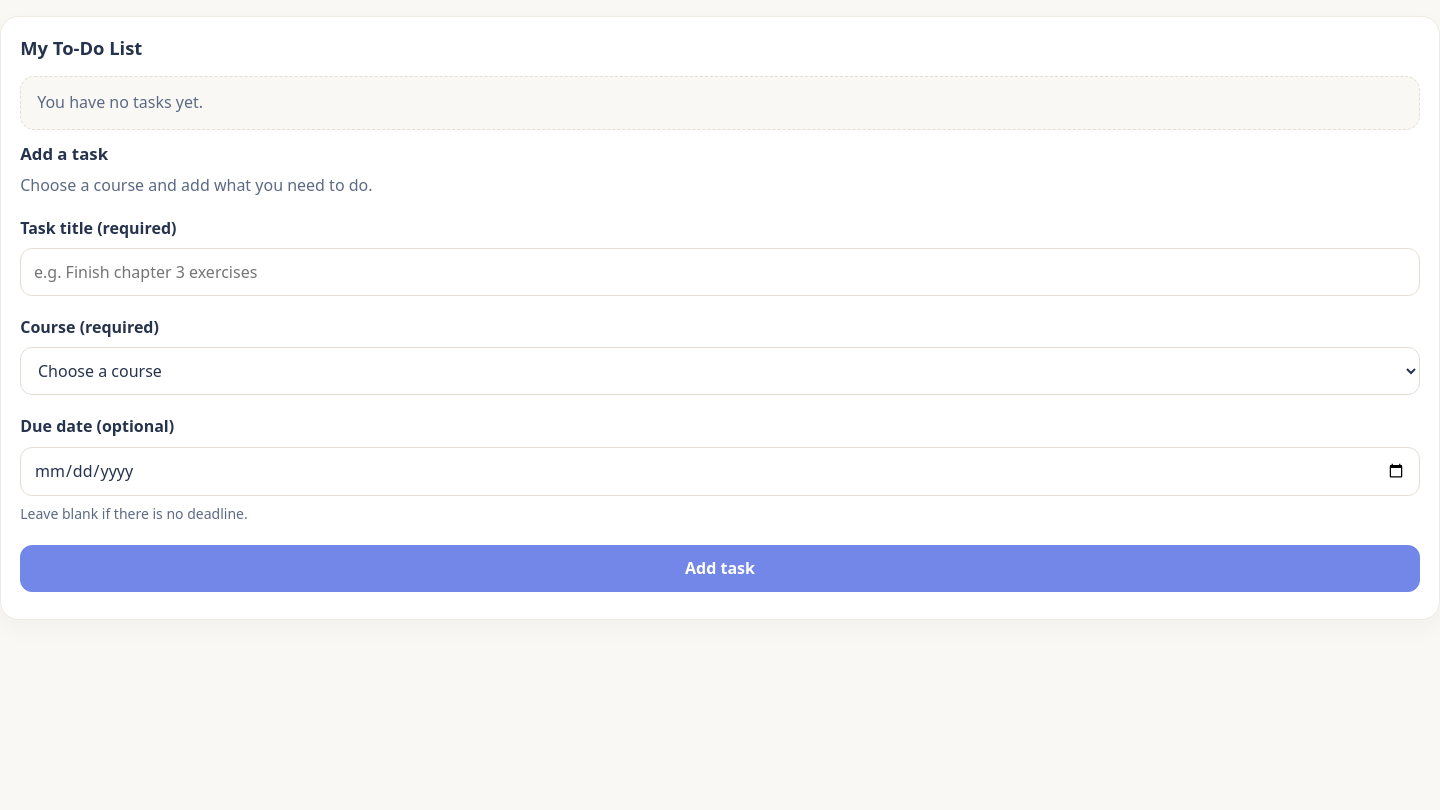
dashboard task list › places a newly created task using the same order
The width and height of the screenshot is (1440, 810).
Expected: the text "You have no tasks yet." is shown, [20,76,1420,130]
Type "Read chapter" into the field labelled "Task title (required)".
click(720, 272); type("Read chapter")  # box [20,248,1420,296]
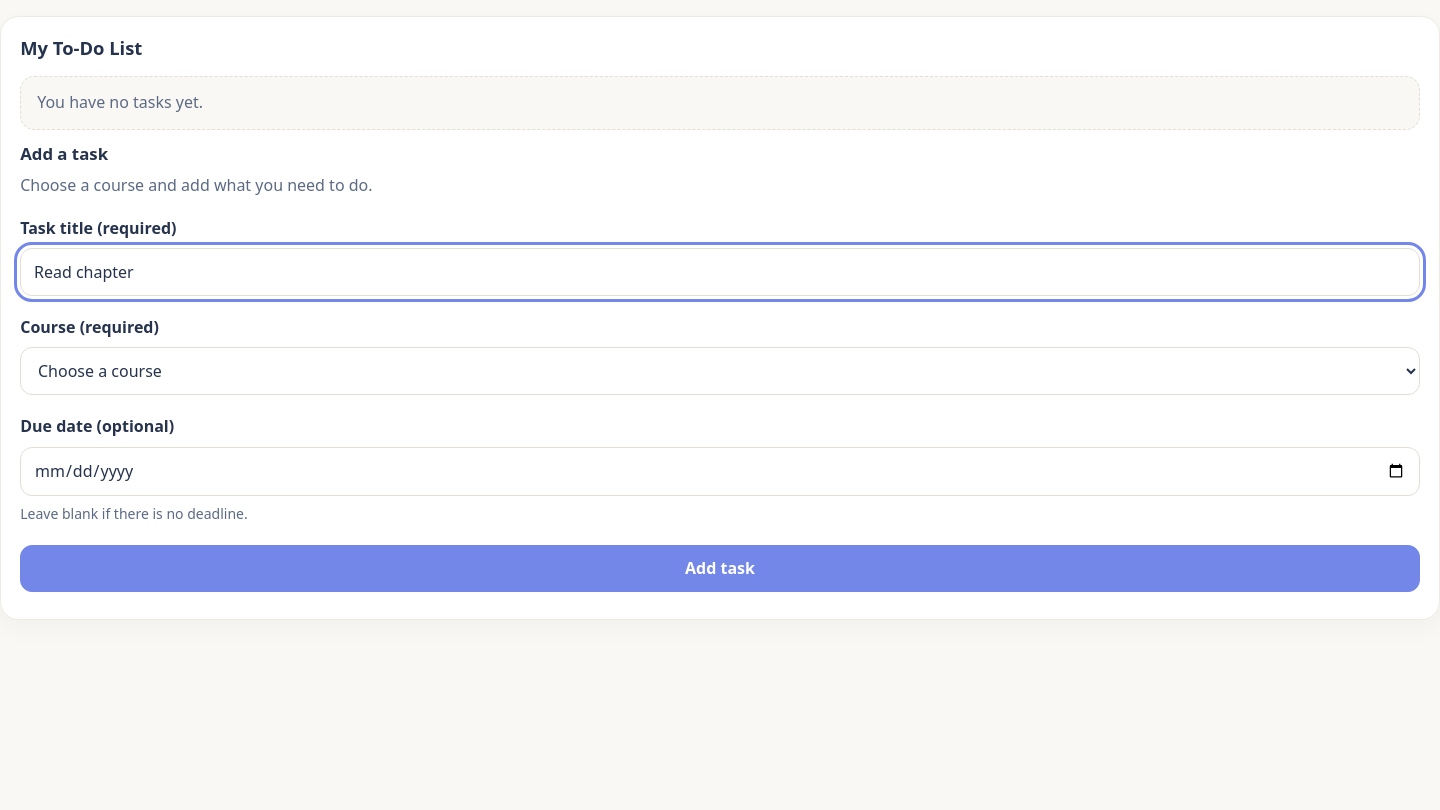
Select "Algorithms" in the dropdown labelled "Course (required)" at [720, 371], box [20,347,1420,396]
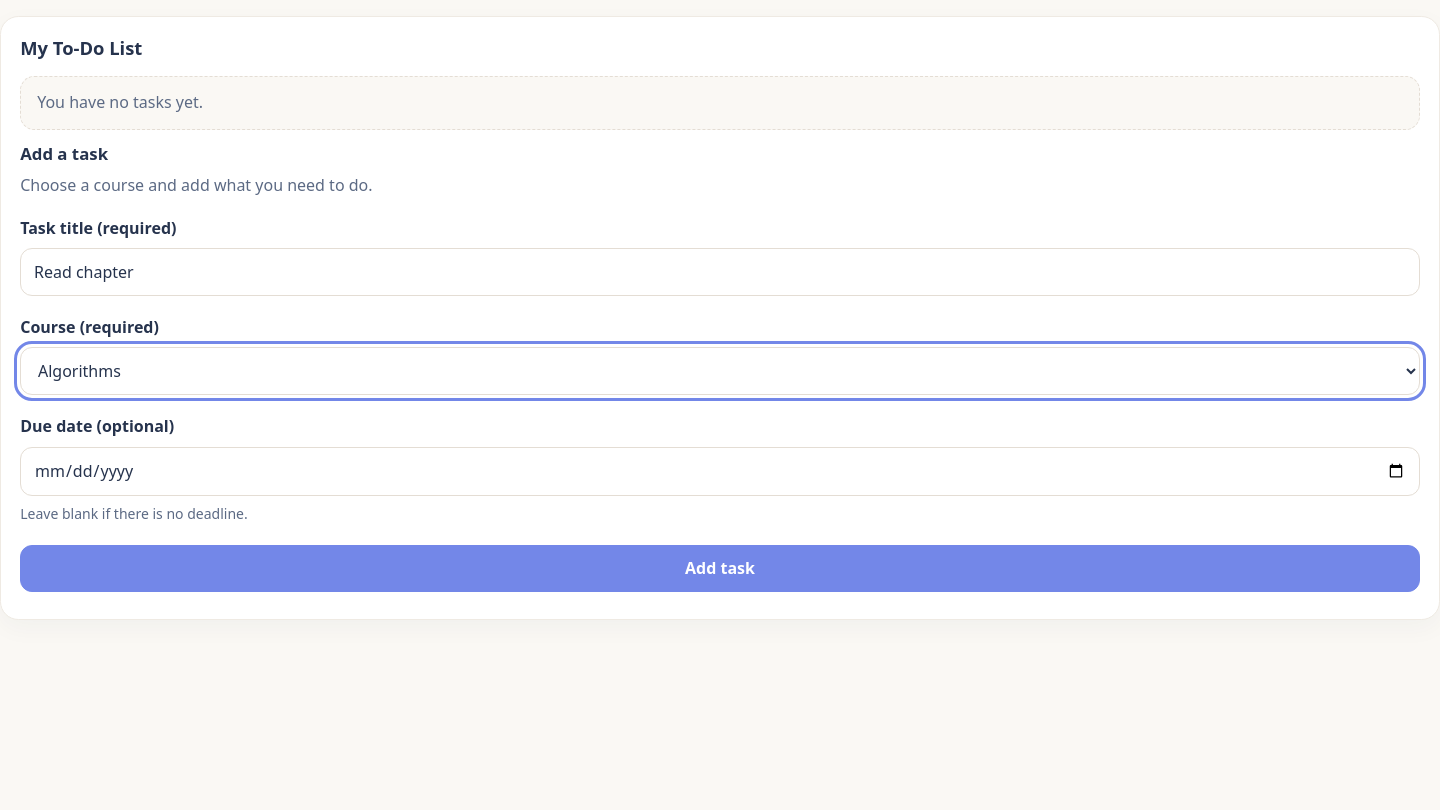
Click the button "Add task".
click(720, 568)  # box [20,544,1420,592]
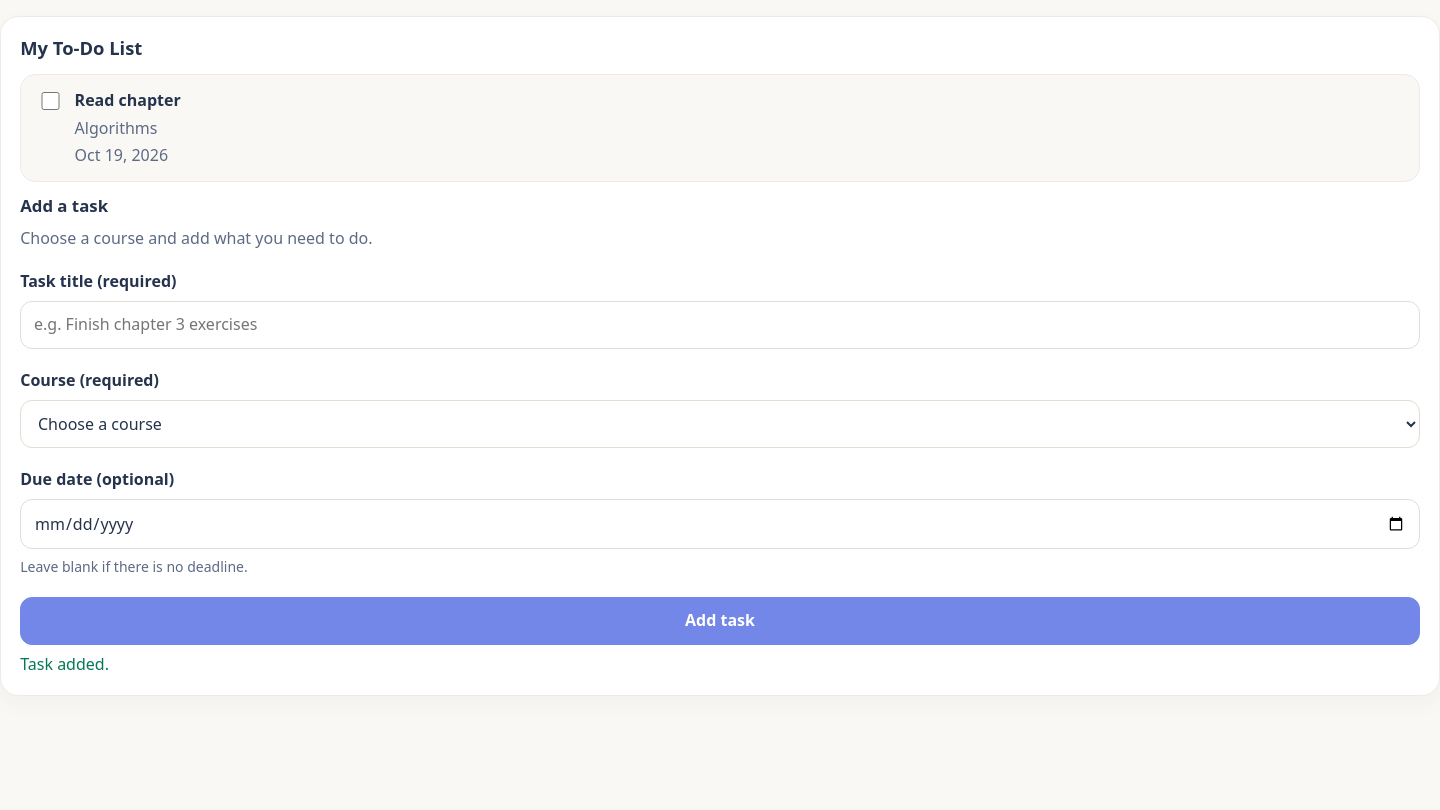
Result: the list item shows "Read chapter" at [75,90,181,112]
Result: the text "You have no tasks yet." is gone
